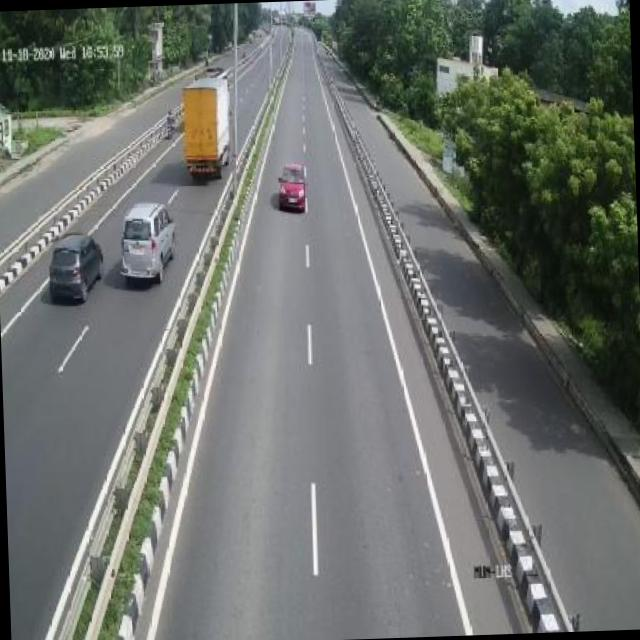car: (120, 198, 177, 286), (48, 224, 108, 300), (276, 154, 310, 216)
